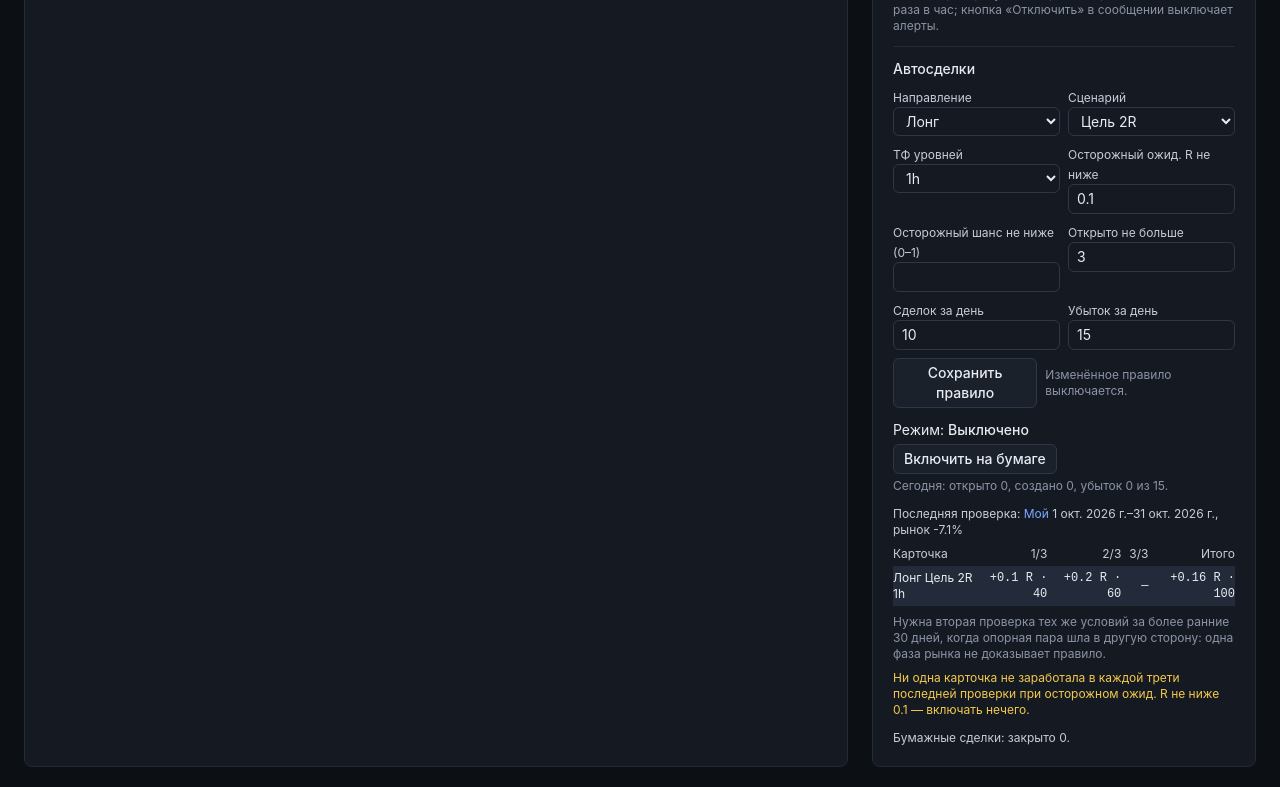
Test case: scanner page › shows the auto trades of an own preset and refuses paper without a second market
(page scrolled)
Expected: the text "Выключено" is shown, [948,421,1029,438]
Expected: the text "+0.16 R · 100" is shown, [1152,566,1235,606]
Click the button "Включить на бумаге". click: x=975, y=459
box: [893,444,1057,474]
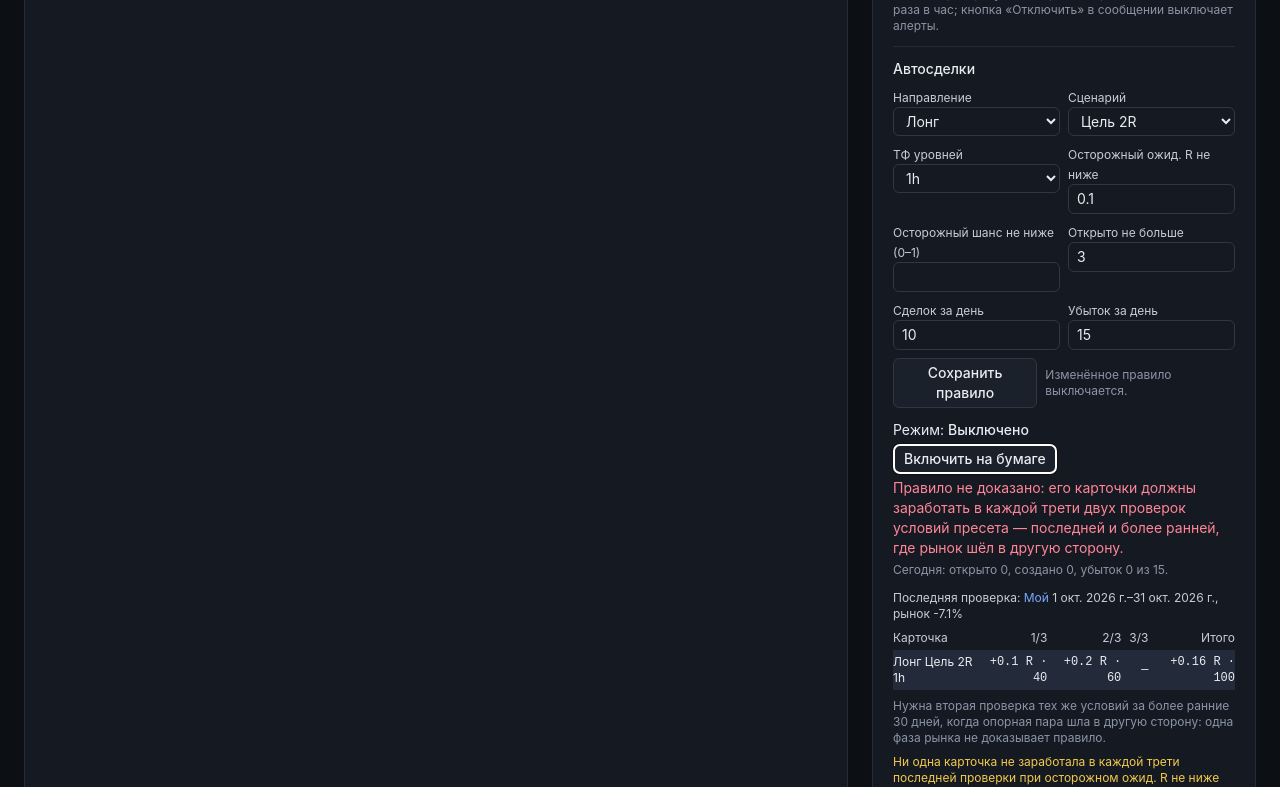
Result: the text "Правило не доказано" is shown at [893,479,1220,556]
